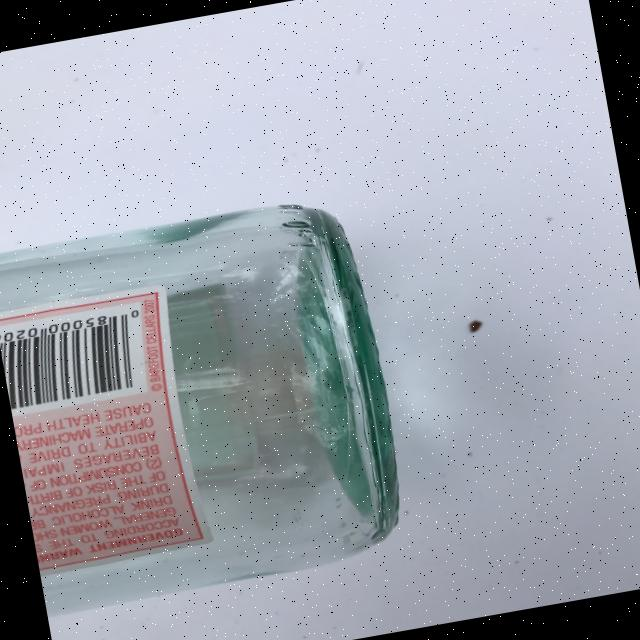glass: (0, 189, 415, 617)
